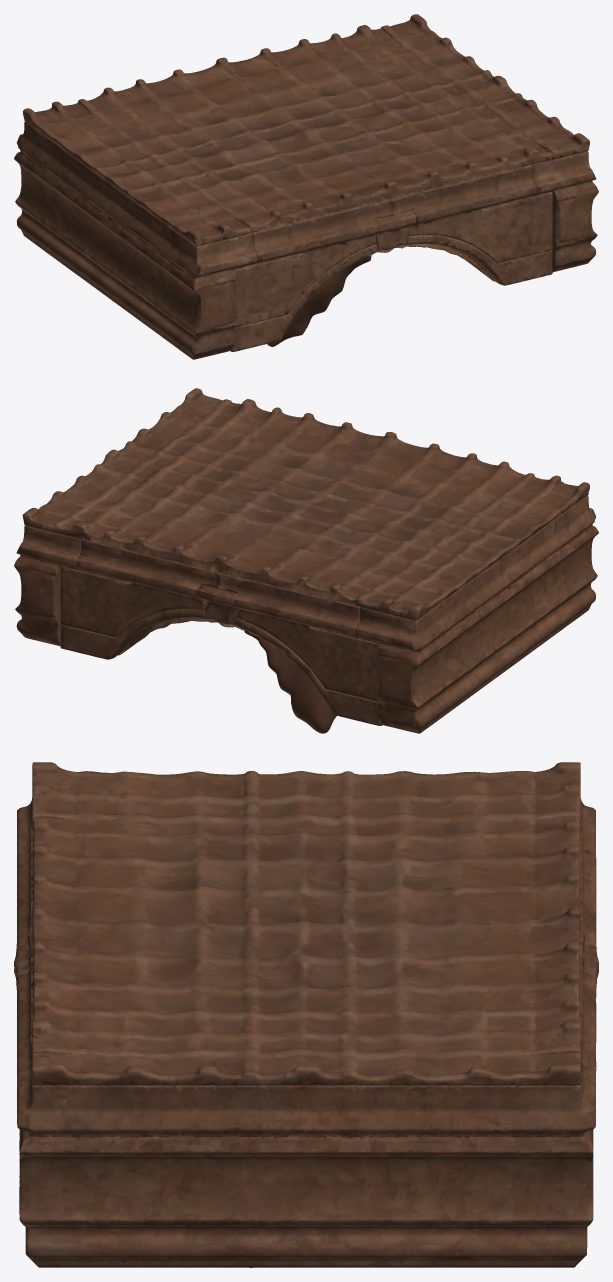
The model's file is sepia-cutout.glb.
The picture shows the model from 3 angles, top to bottom: view 1: azimuth 30°, elevation 25°; view 2: azimuth 150°, elevation 25°; view 3: azimuth 270°, elevation 25°; orthographic projection. The views are drawn at different scales.
Parts seen in each view (by area): view 1: Mesh_0; view 2: Mesh_0; view 3: Mesh_0.
Part boxes in pixels (<box>): Mesh_0: <box>14,14,598,359</box>; Mesh_0: <box>14,388,598,733</box>; Mesh_0: <box>14,762,598,1267</box>.
Size of the model in its own units: 0.225 by 0.12 by 0.1769.
Materials: 1 (1 with a texture image).
